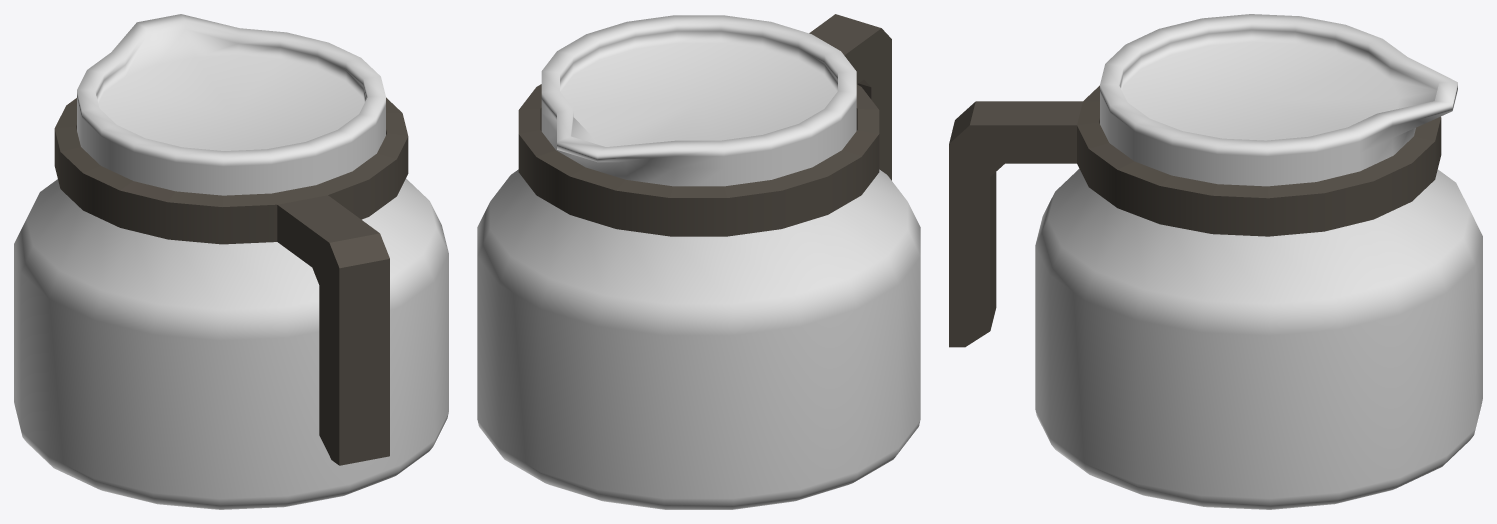
File: CoffeeKettle.fbx
The picture shows the model from 3 angles, left to right: view 1: azimuth 30°, elevation 25°; view 2: azimuth 150°, elevation 25°; view 3: azimuth 270°, elevation 25°; orthographic projection. The views are drawn at different scales.
Parts seen in each view (by area): view 1: polySurface899; view 2: polySurface899; view 3: polySurface899.
Part boxes in pixels (<box>): polySurface899: <box>14,14,448,509</box>; polySurface899: <box>477,14,920,509</box>; polySurface899: <box>949,14,1482,509</box>.
Size of the model in its own units: 19.67 by 16.52 by 23.46.
